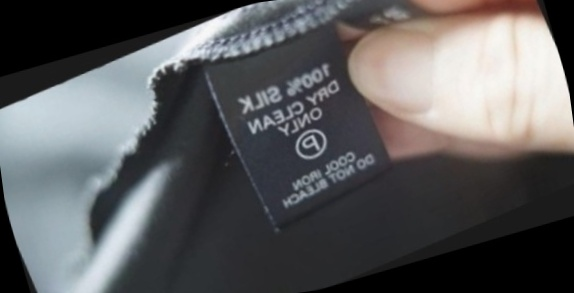dry_clean_any_solvent_except_trichloroethylene: (285, 120, 334, 167)
